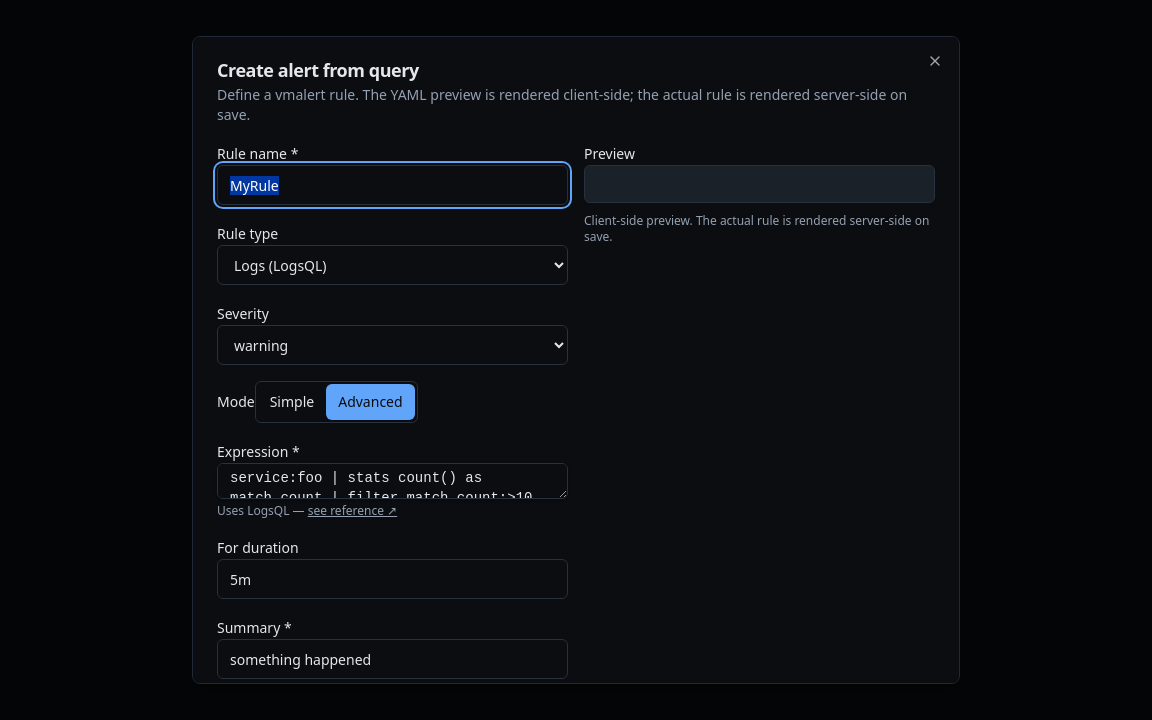
CreateAlertModal › shows a for_duration error on submit for a bad duration
Type "banana" into the field with test id "create-alert-for" at (392, 579), box [217, 559, 568, 599]
(page scrolled)
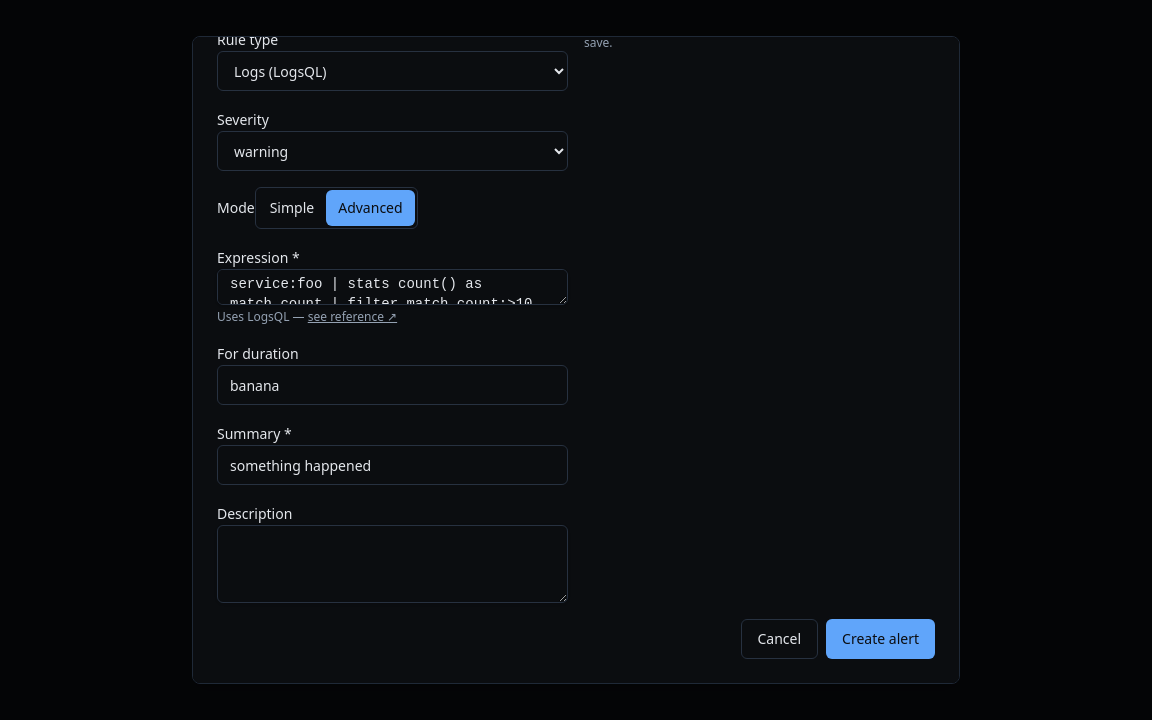
Click the button with test id "create-alert-submit" at (881, 639), box [826, 619, 935, 659]
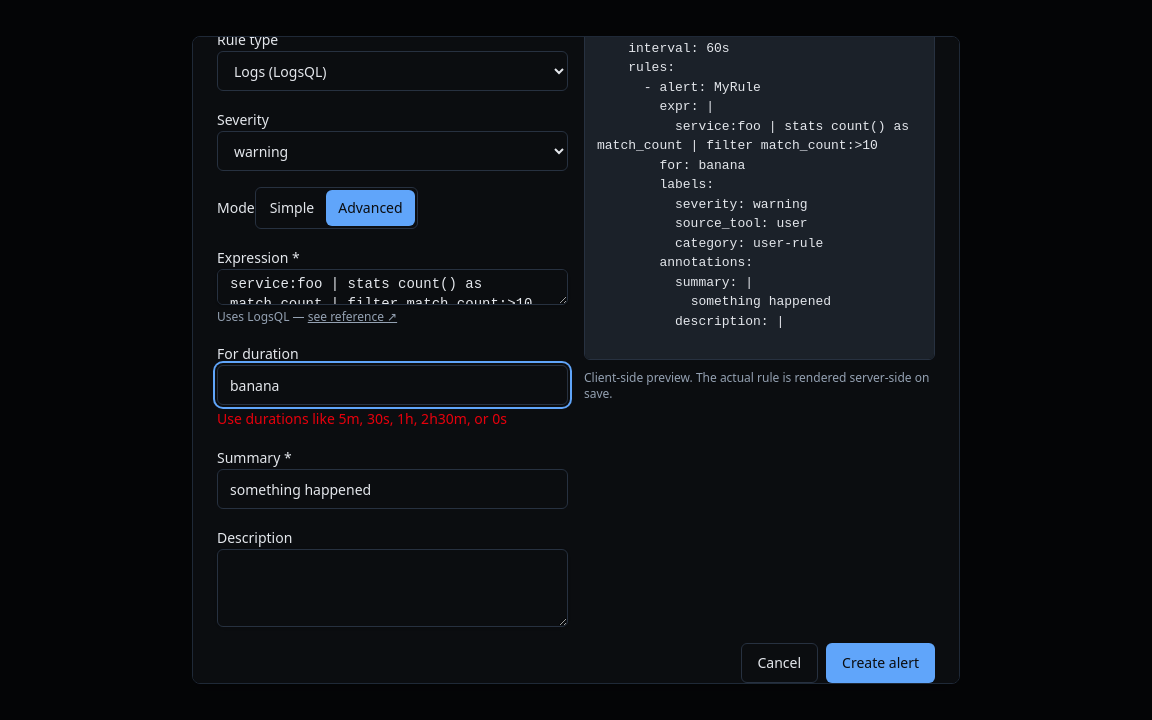
Check: the text "Use durations like 5m, 30s, 1h, 2h30m, or 0s" is shown, box [217, 409, 507, 428]
